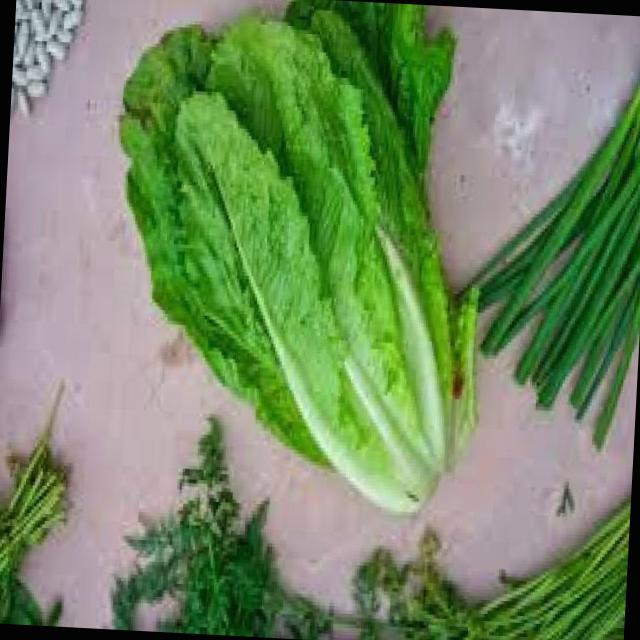Lettuce-Ready-to-Harvest: (117, 0, 481, 519)
